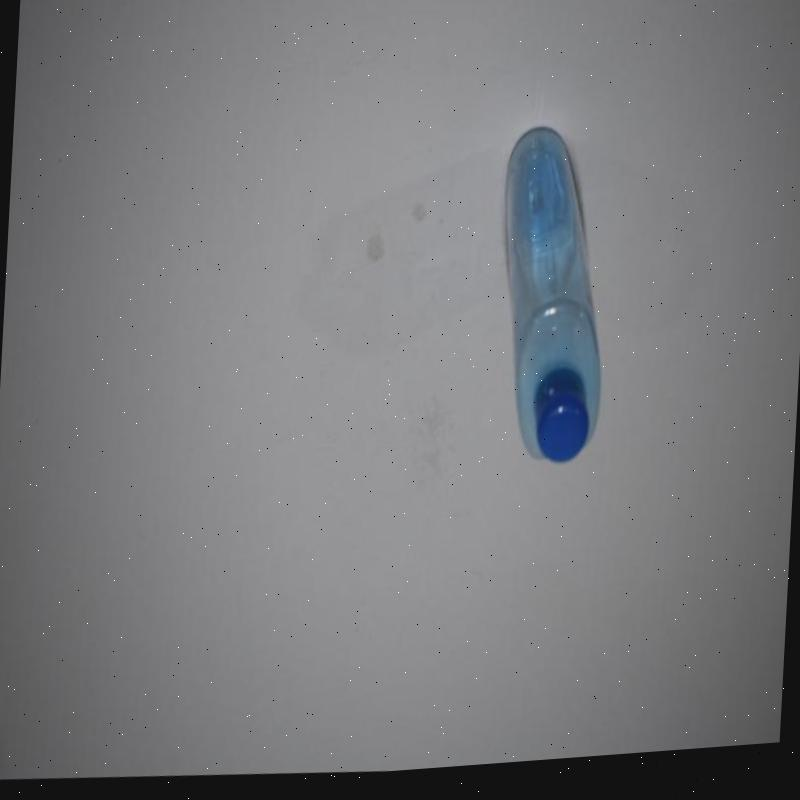botella: (488, 128, 617, 480)
